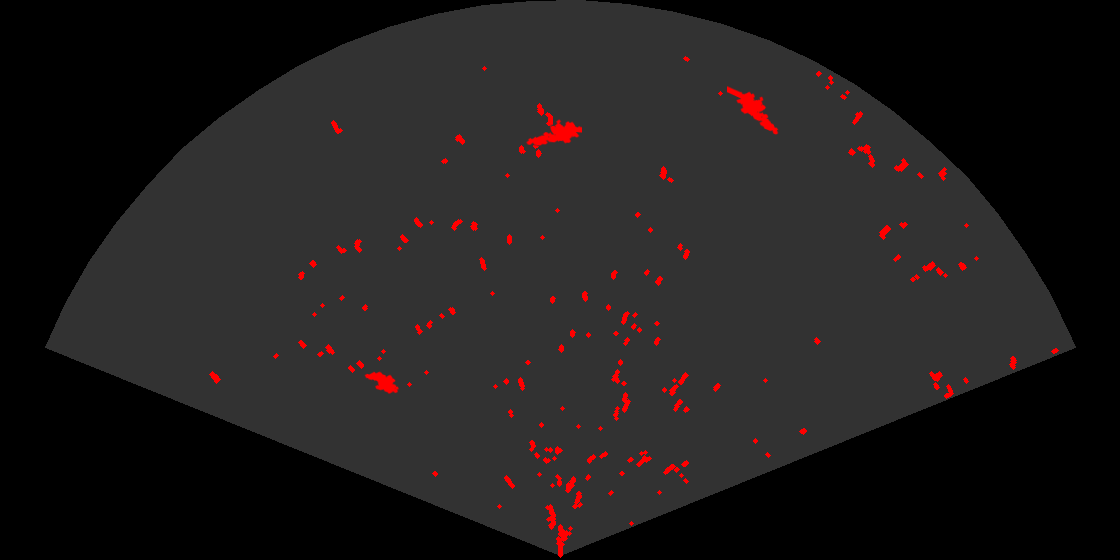AUV: (363, 370, 401, 396)
frogman: (727, 84, 780, 136), (524, 117, 582, 147)
